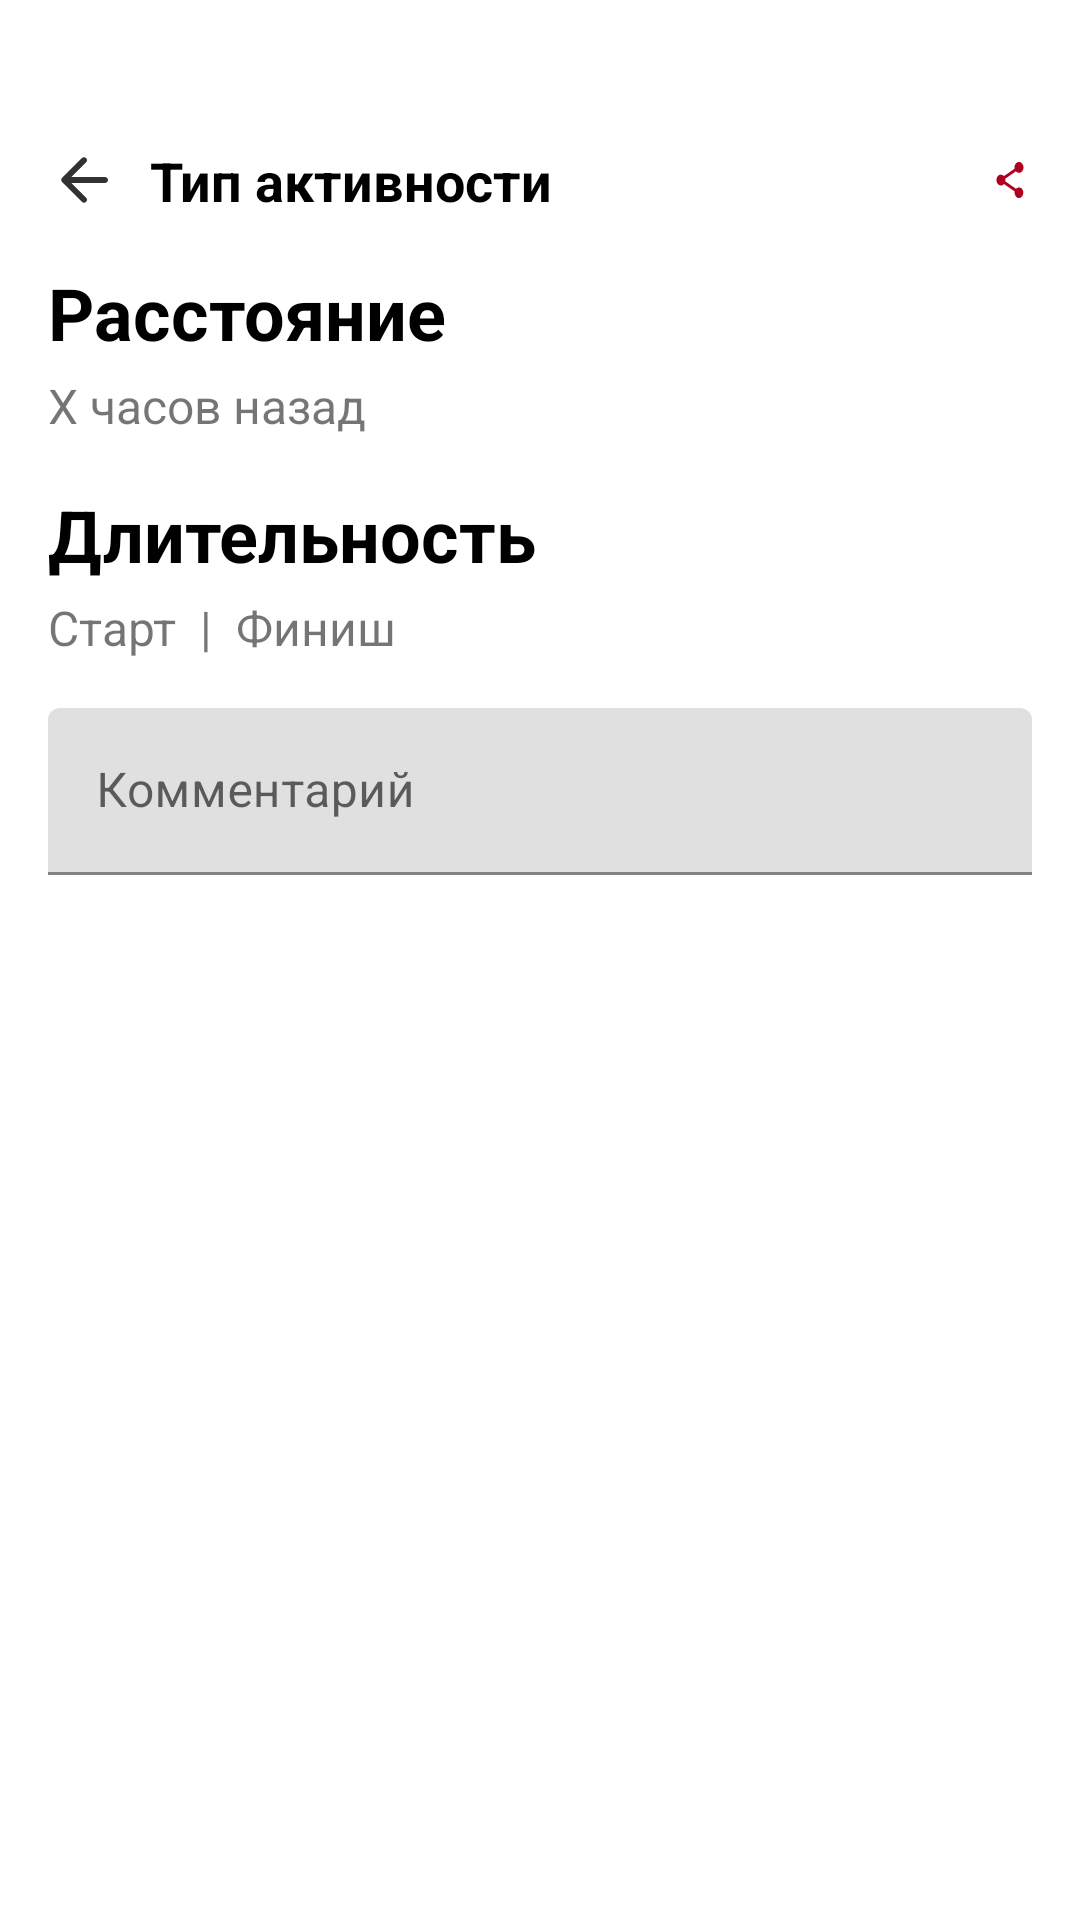

Named icons in this screenshot (1080px×1920px) and their centers, (x,y):
arrow back: (84,180)
